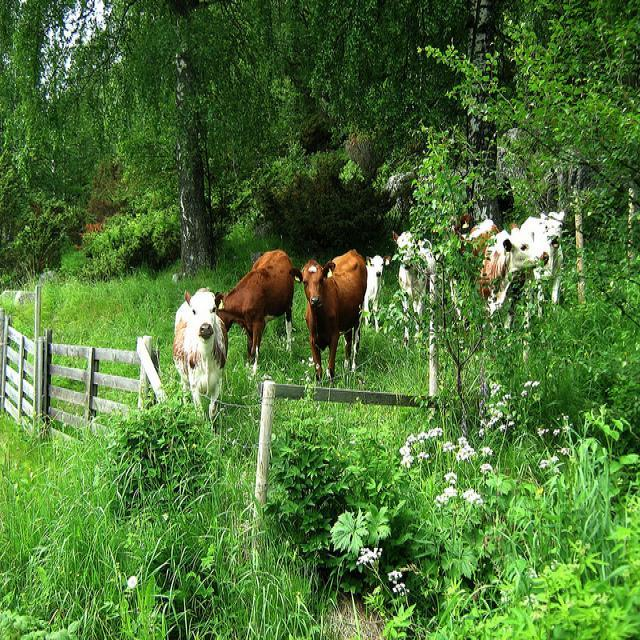cow: (289, 247, 365, 379), (215, 248, 294, 368), (454, 216, 547, 315), (167, 284, 228, 429), (391, 227, 435, 351), (517, 208, 564, 316), (363, 252, 390, 332)
